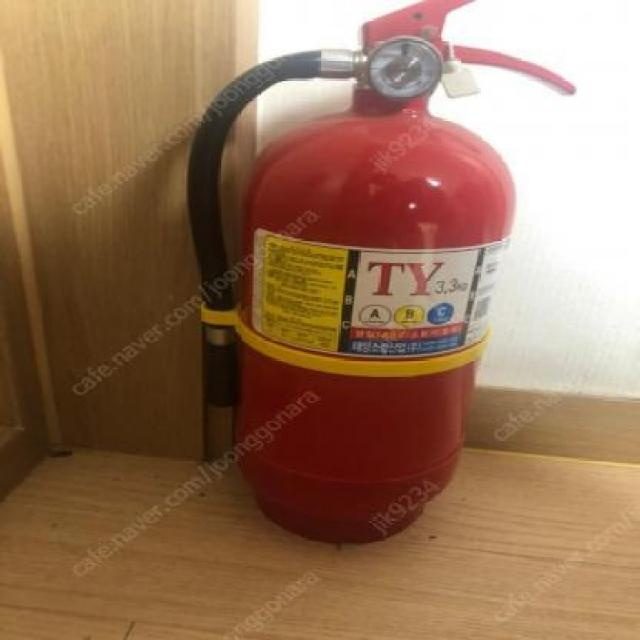fire extinguisher: (187, 2, 576, 545)
